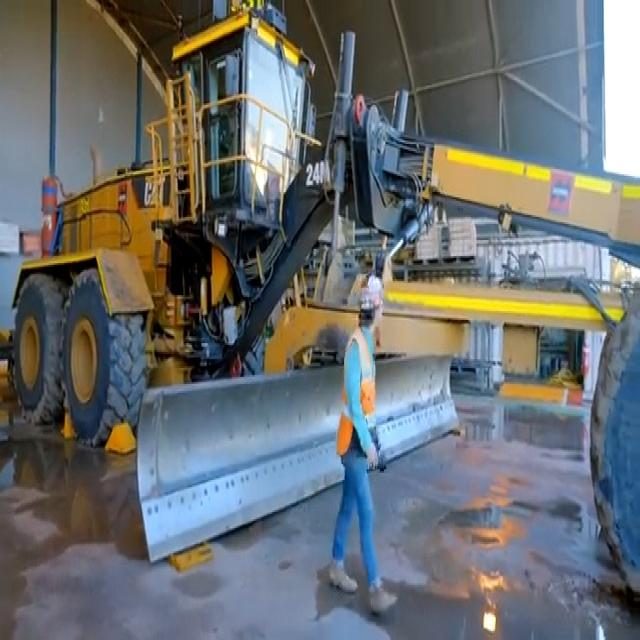buldozerpayloadergrader: (55, 186, 640, 596)
